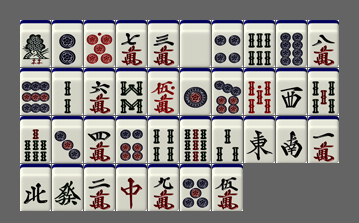0m: (148, 68, 179, 115)
0p: (84, 20, 115, 67)
0s: (244, 68, 275, 115)
1m: (308, 116, 339, 163)
1p: (180, 68, 211, 115)
1s: (20, 20, 51, 67)
1z: (244, 116, 275, 163)
2m: (84, 164, 115, 211)
2p: (52, 20, 83, 67)
2s: (52, 68, 83, 115)
2z: (276, 116, 307, 163)
3m: (148, 20, 179, 67)
3p: (52, 116, 83, 163)
3s: (212, 116, 243, 163)
3z: (276, 68, 307, 115)
4m: (84, 116, 115, 163)
4p: (212, 20, 243, 67)
4s: (148, 116, 179, 163)
4z: (20, 164, 51, 211)
5m: (212, 164, 243, 211)
5p: (180, 164, 211, 211)
5s: (308, 68, 339, 115)
5z: (180, 20, 211, 67)
6m: (84, 68, 115, 115)
6p: (116, 116, 147, 163)
6s: (244, 20, 275, 67)
6z: (52, 164, 83, 211)
7m: (116, 20, 147, 67)
7p: (212, 68, 243, 115)
7s: (20, 116, 51, 163)
7z: (116, 164, 147, 211)
8m: (308, 20, 339, 67)
8p: (276, 20, 307, 67)
8s: (116, 68, 147, 115)
9m: (148, 164, 179, 211)
9p: (20, 68, 51, 115)
9s: (180, 116, 211, 163)
